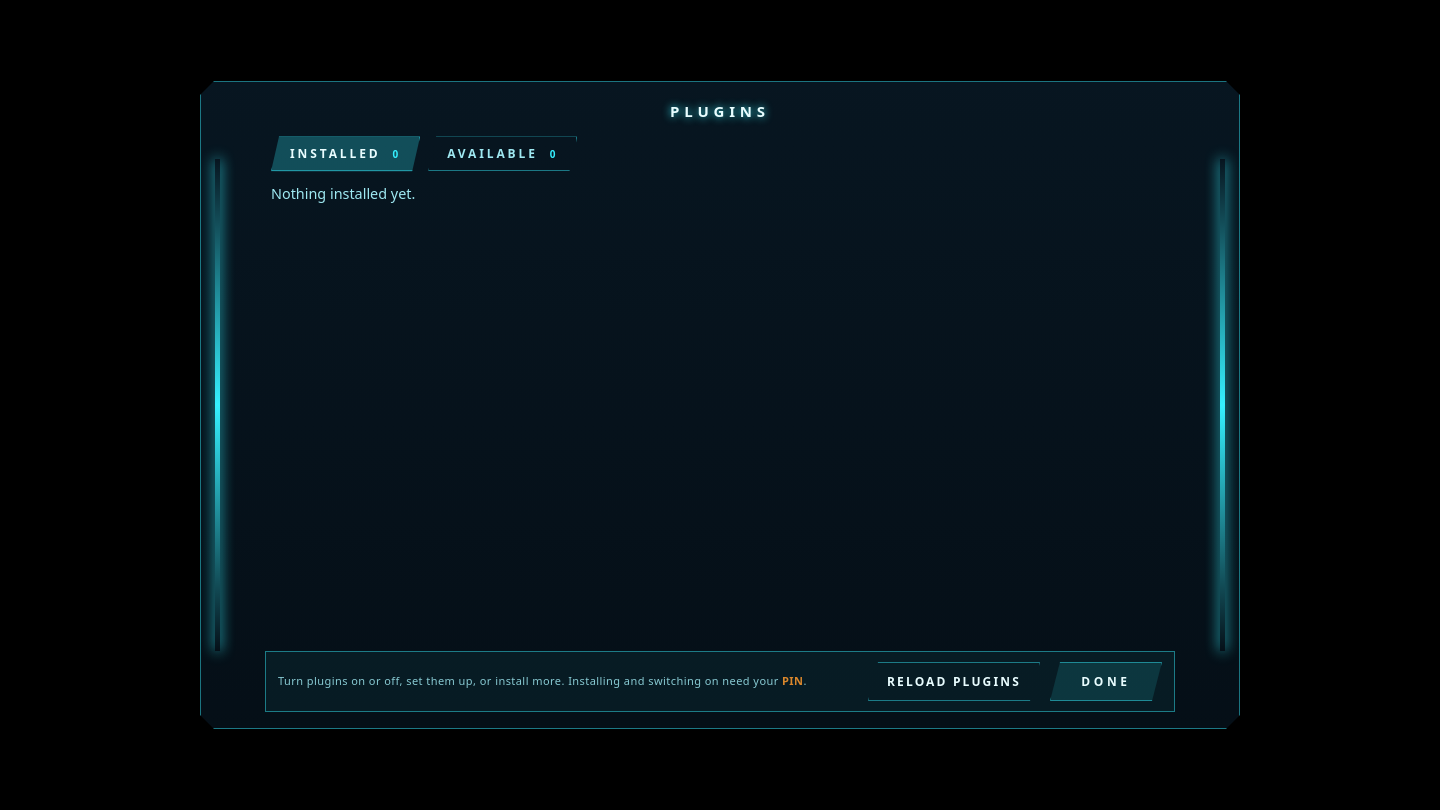
Scenario: plugins in the glass panel › says so when there is nothing to show
expect the text "Nothing installed yet." is shown: met, box x1=271 y1=184 x2=415 y2=203
Step 1. Click the tab "Available 0" → click(503, 154), box x1=428 y1=136 x2=577 y2=171
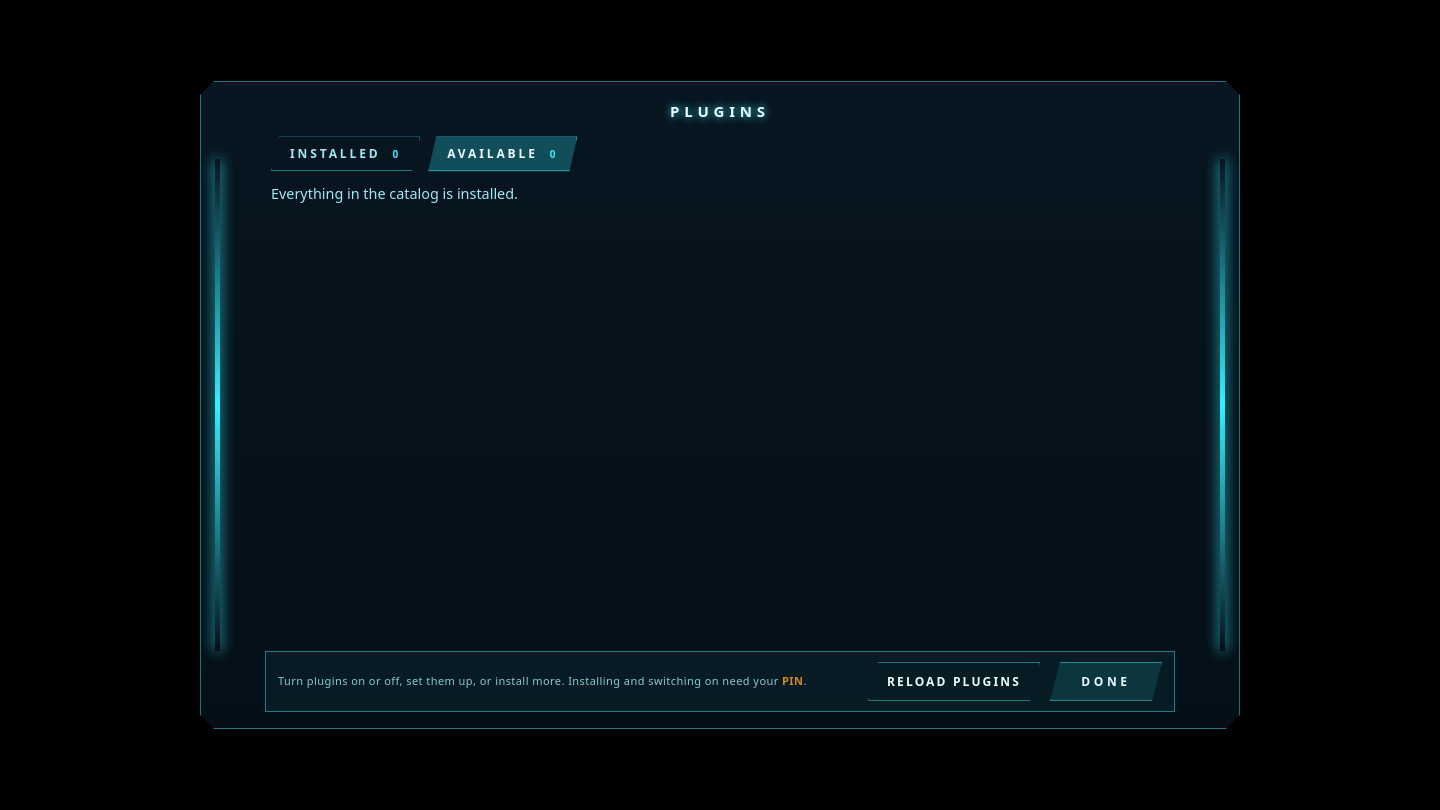
expect the text "Everything in the catalog is installed." is shown: met, box x1=271 y1=184 x2=518 y2=203
